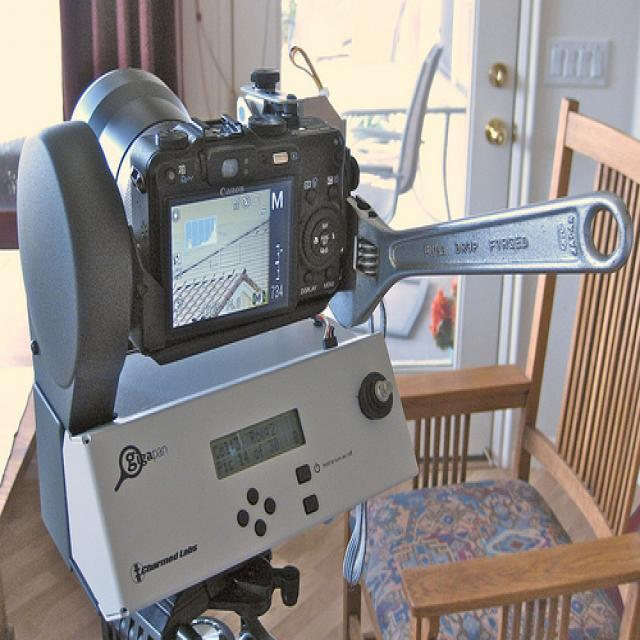wrench: (324, 184, 638, 335)
